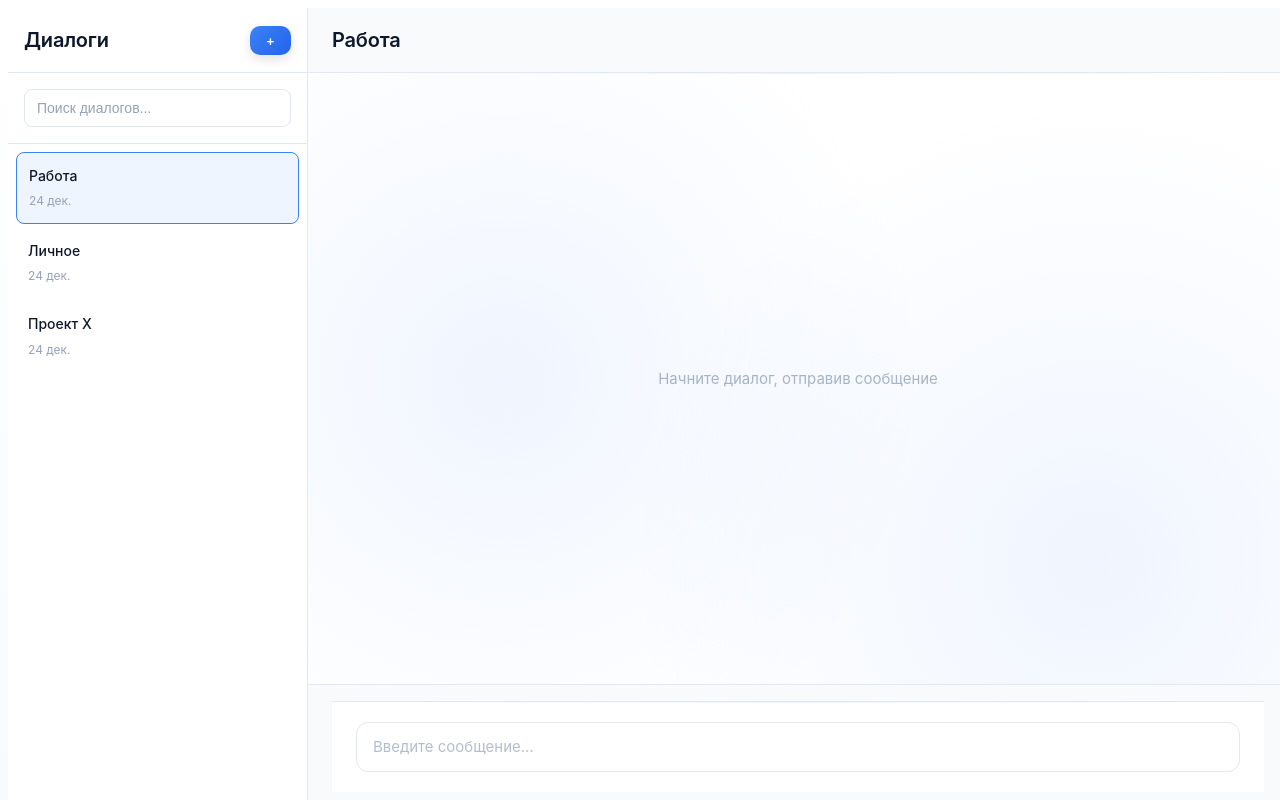
Scenario: ChatPage тесты › Тест 4: Поиск диалогов › должен работать поиск диалогов
Expected: the text "Работа" is shown, left=29, top=167, right=77, bottom=184
Type "Работа" into the search field named "поиск по диалогам".
click(158, 108); type("Работа")  # box left=24, top=89, right=291, bottom=127
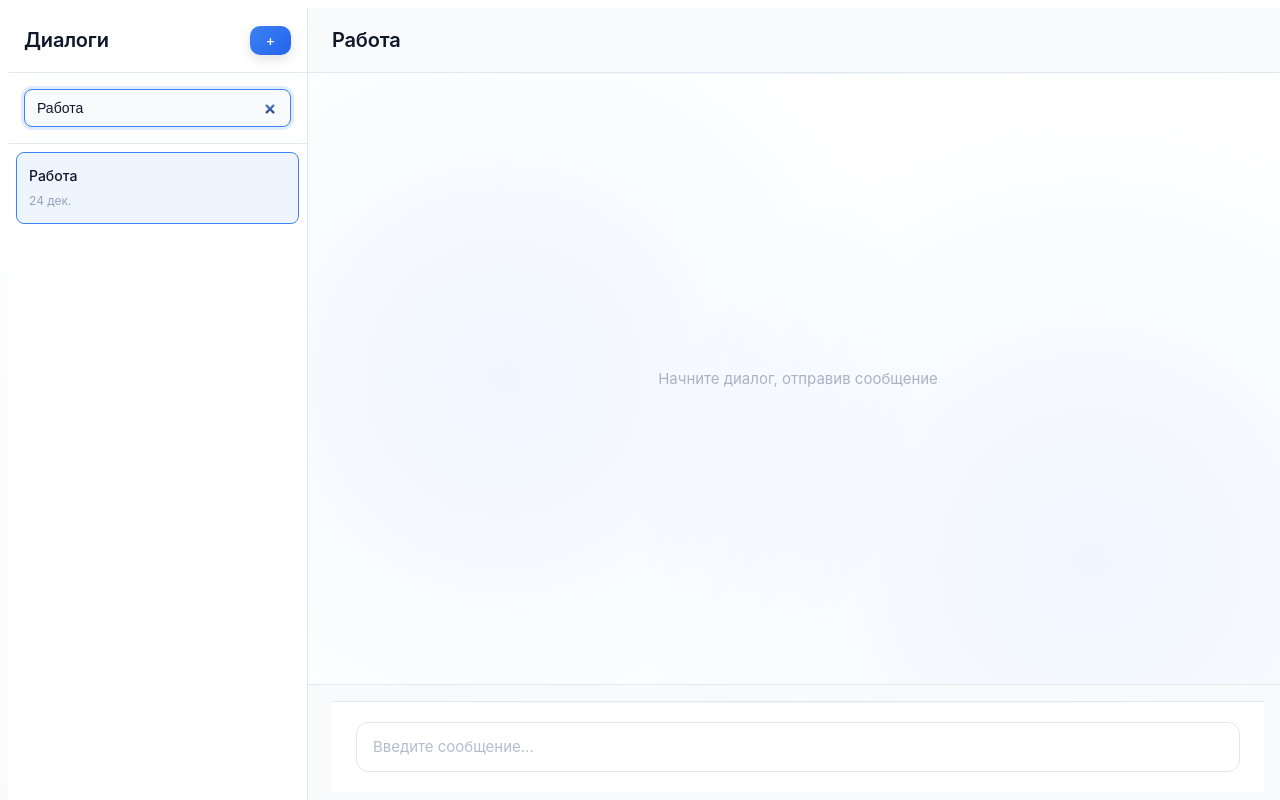
Result: the button "Личное" is gone
Result: the button "Проект X" is gone
